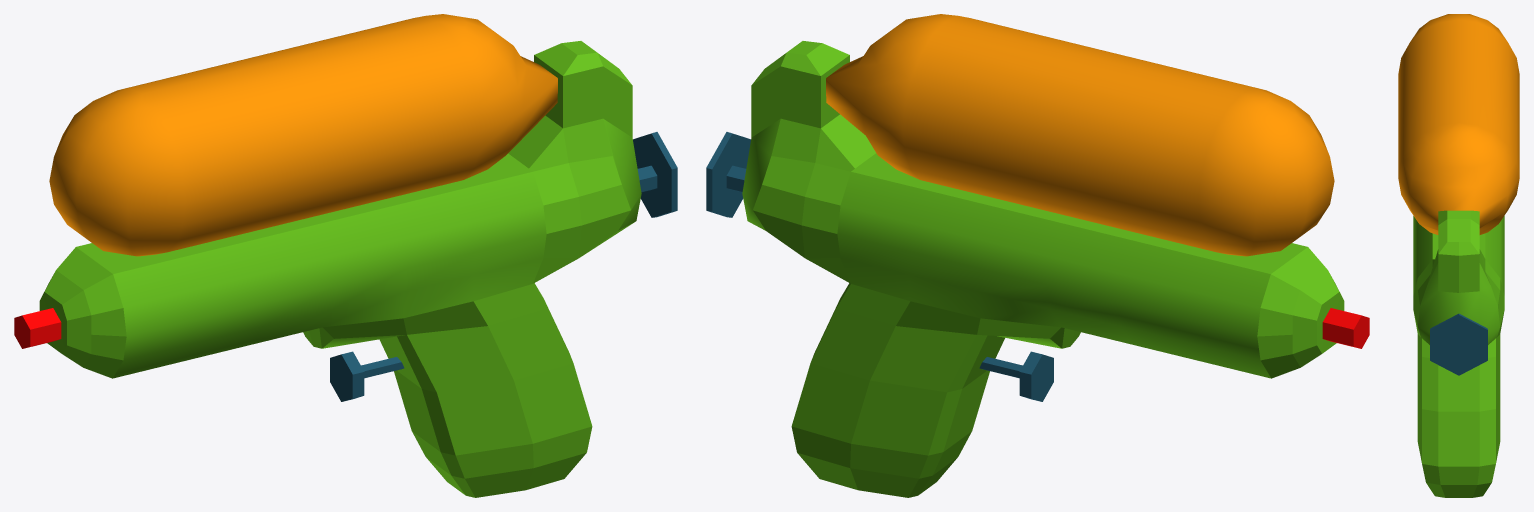
Rendered from waterpistol.fbx.
3 views of the same model, side by side, from view 1: azimuth 30°, elevation 25°; view 2: azimuth 150°, elevation 25°; view 3: azimuth 270°, elevation 25° (orthographic). The views are drawn at different scales.
Parts seen in each view (by area): view 1: polySurface1; view 2: polySurface1; view 3: polySurface1.
Part boxes in pixels (x1,y1,x2,y2): polySurface1: (14,14,677,497); polySurface1: (706,14,1369,497); polySurface1: (1398,14,1519,497).
Size of the model in its own units: 8.37 by 5.94 by 1.95.
Materials: 1 (1 with a texture image).
